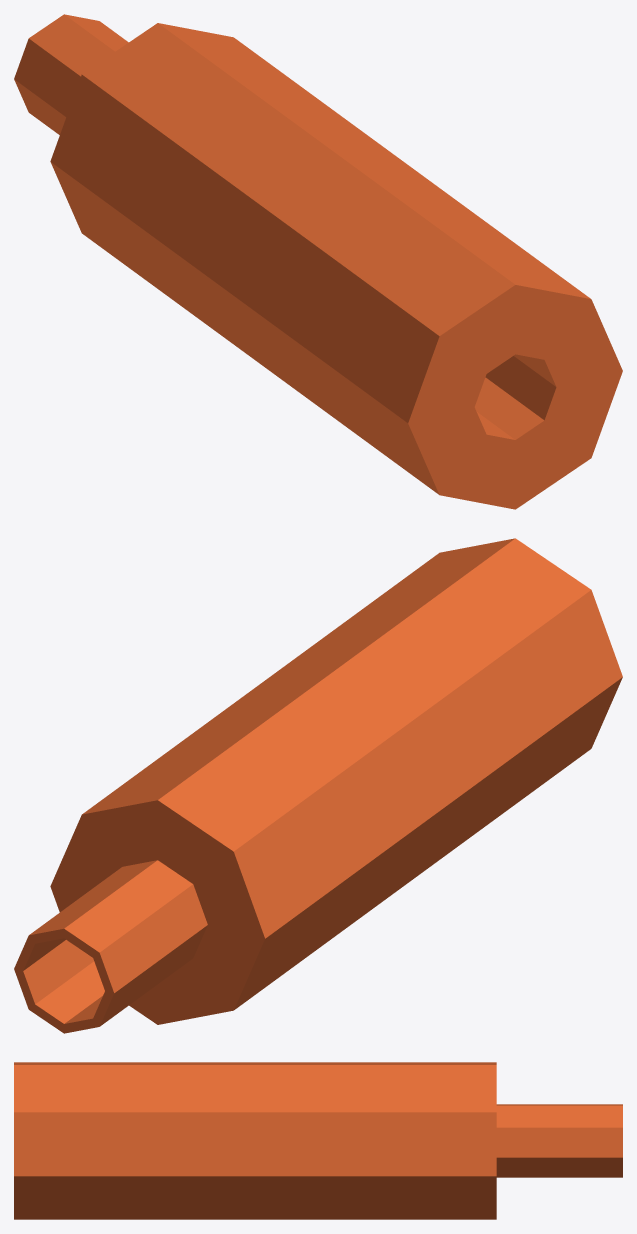
Rendered from acc_Rifle_3_supressor.fbx.
3 renders of one model, top to bottom at view 1: azimuth 30°, elevation 25°; view 2: azimuth 150°, elevation 25°; view 3: azimuth 270°, elevation 25°, orthographic. The views are drawn at different scales.
Parts seen in each view (by area): view 1: acc_Rifle_3_supressor; view 2: acc_Rifle_3_supressor; view 3: acc_Rifle_3_supressor.
Boxes of the visible parts, x1=… form: acc_Rifle_3_supressor: x1=14, y1=14, x2=622, y2=509; acc_Rifle_3_supressor: x1=14, y1=538, x2=622, y2=1033; acc_Rifle_3_supressor: x1=14, y1=1062, x2=622, y2=1219.
Bounding box in the file's own units: 30.64 × 30.64 × 112.
